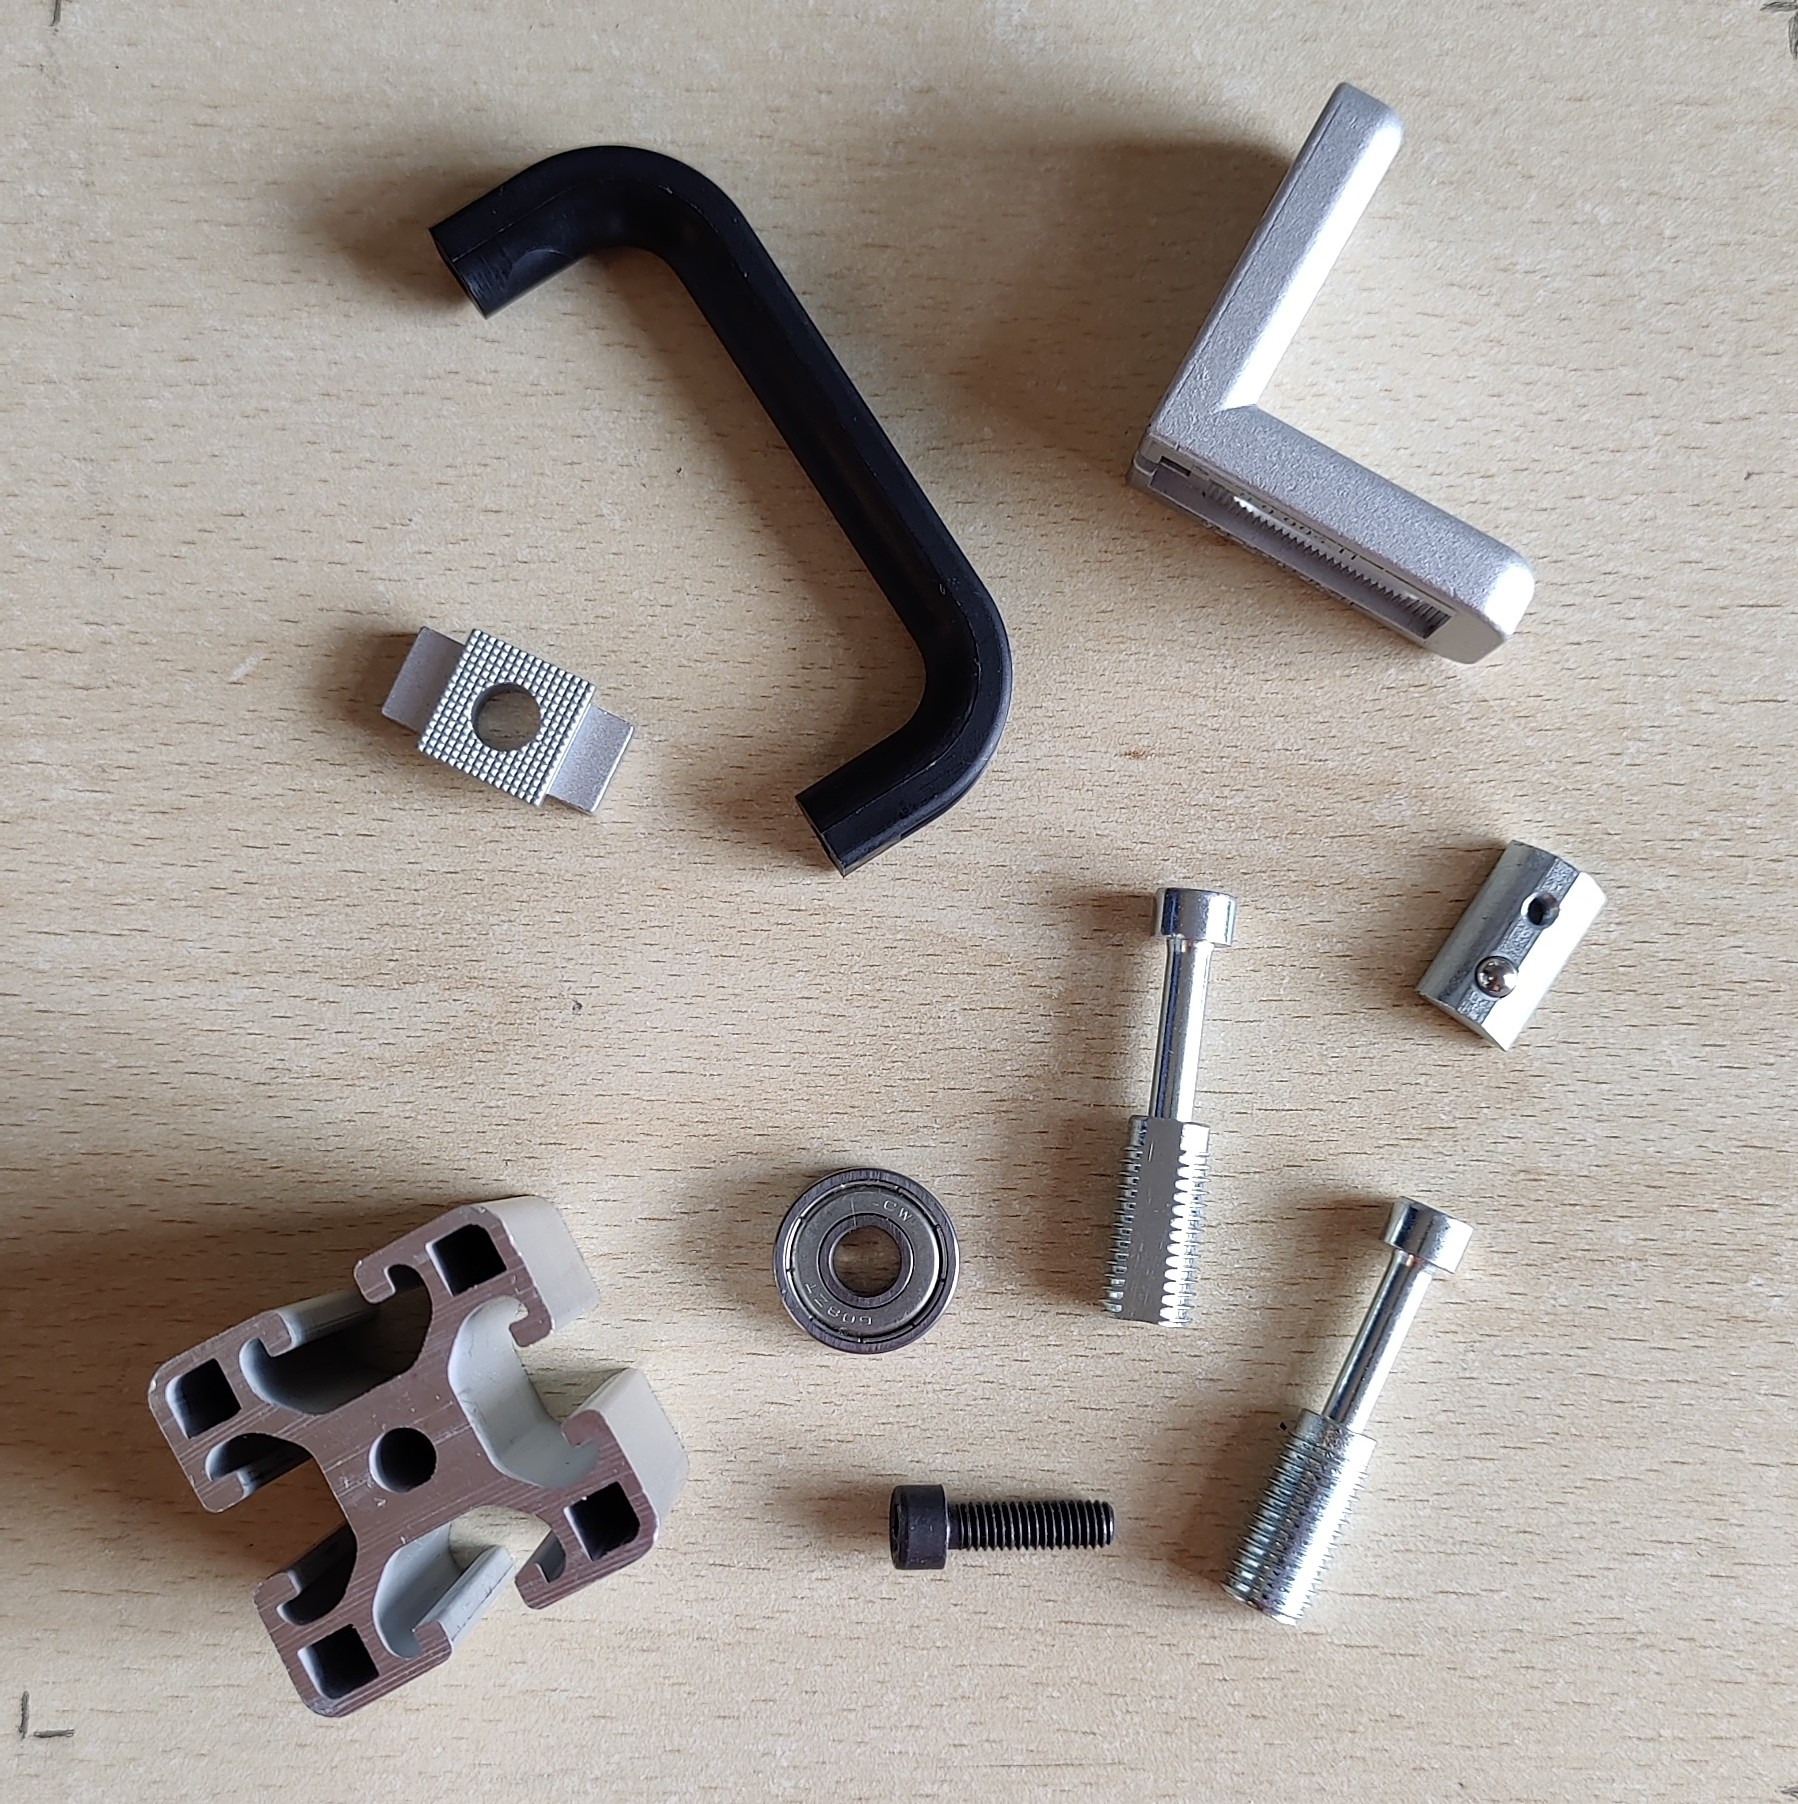Aluminium Extension: (143, 1193, 695, 1720)
Ball Bearing: (767, 1162, 963, 1356)
Multiwinkel: (1121, 77, 1539, 668)
Pull Handle: (422, 140, 1014, 877)
Shoulder Socket Head Cap Screw: (1217, 1193, 1479, 1631), (1097, 882, 1241, 1333)
Socket Head Cap Screw: (884, 1476, 1116, 1575)
T Nut Square: (377, 624, 637, 818)
T Spring Nut: (1409, 839, 1610, 1058)
